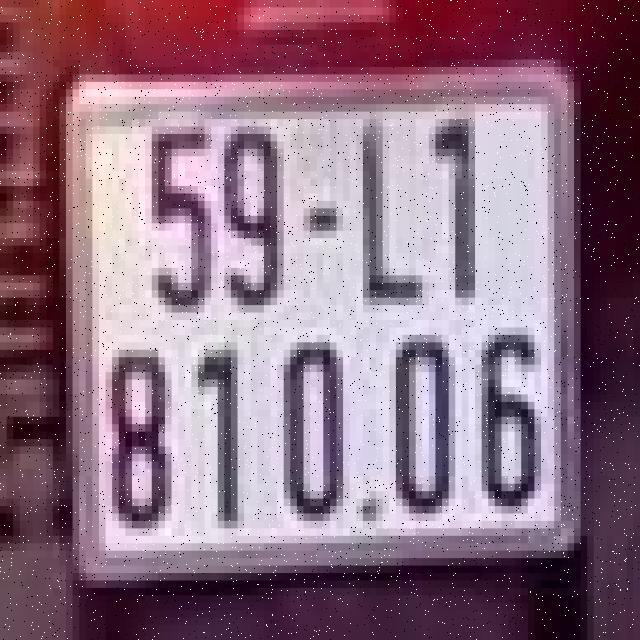0: (376, 331, 469, 525), (264, 335, 350, 528)
1: (192, 335, 258, 543), (429, 115, 488, 324)
5: (142, 123, 228, 324)
6: (475, 331, 554, 517)
8: (102, 342, 175, 544)
9: (218, 123, 290, 316)
L: (340, 111, 426, 312)
